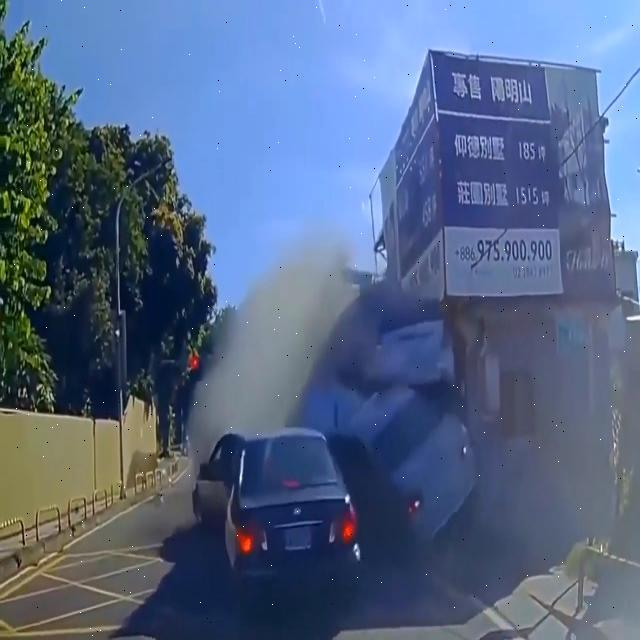accident: (215, 245, 486, 521)
